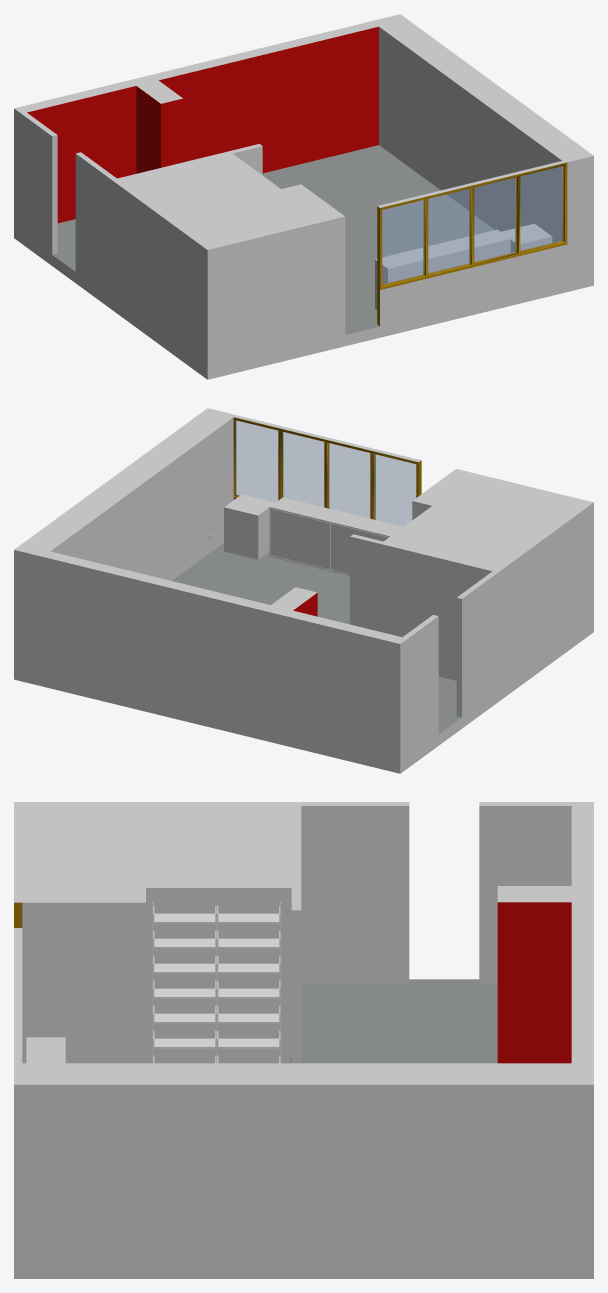
Rendered from edge.dae.
The picture shows the model from 3 angles, top to bottom: view 1: azimuth 30°, elevation 25°; view 2: azimuth 150°, elevation 25°; view 3: azimuth 270°, elevation 25°; orthographic projection. The views are drawn at different scales.
Visible parts, largest first — view 1: Edge Floor plan _birdseye; view 2: Edge Floor plan _birdseye; view 3: Edge Floor plan _birdseye.
Part boxes in pixels (<box>): Edge Floor plan _birdseye: <box>14,14,593,379</box>; Edge Floor plan _birdseye: <box>14,408,593,773</box>; Edge Floor plan _birdseye: <box>14,802,593,1278</box>.
Size of the model in its own units: 339 by 294 by 109.
